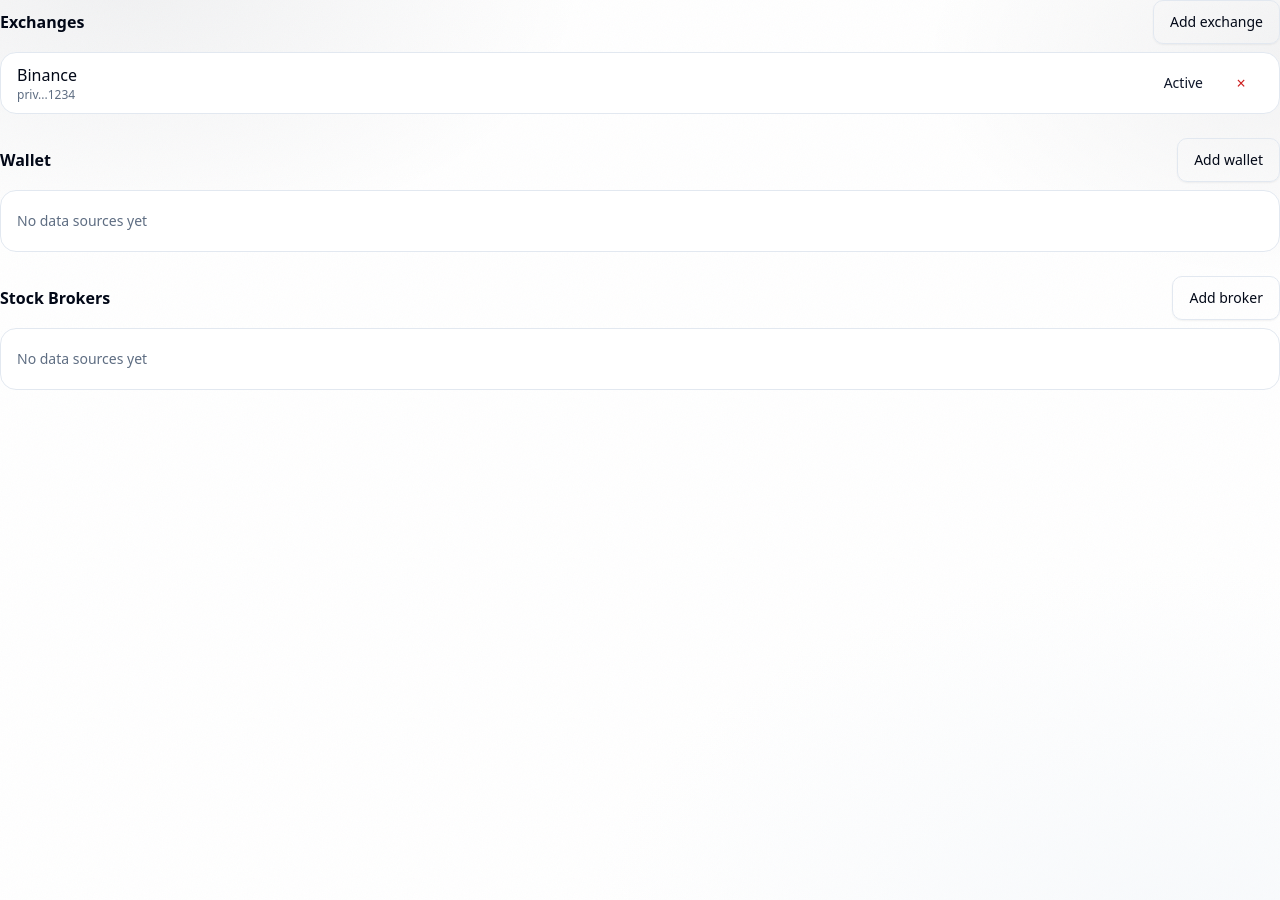
Test case: mobile data sources › masks saved credentials and validates provider fields before saving
This screenshot has width=1280, height=900.
What coordinates should you click on to do the following:
click the button "Add exchange"
I would click on:
 (1217, 22)
Its box is [1153, 0, 1279, 44].
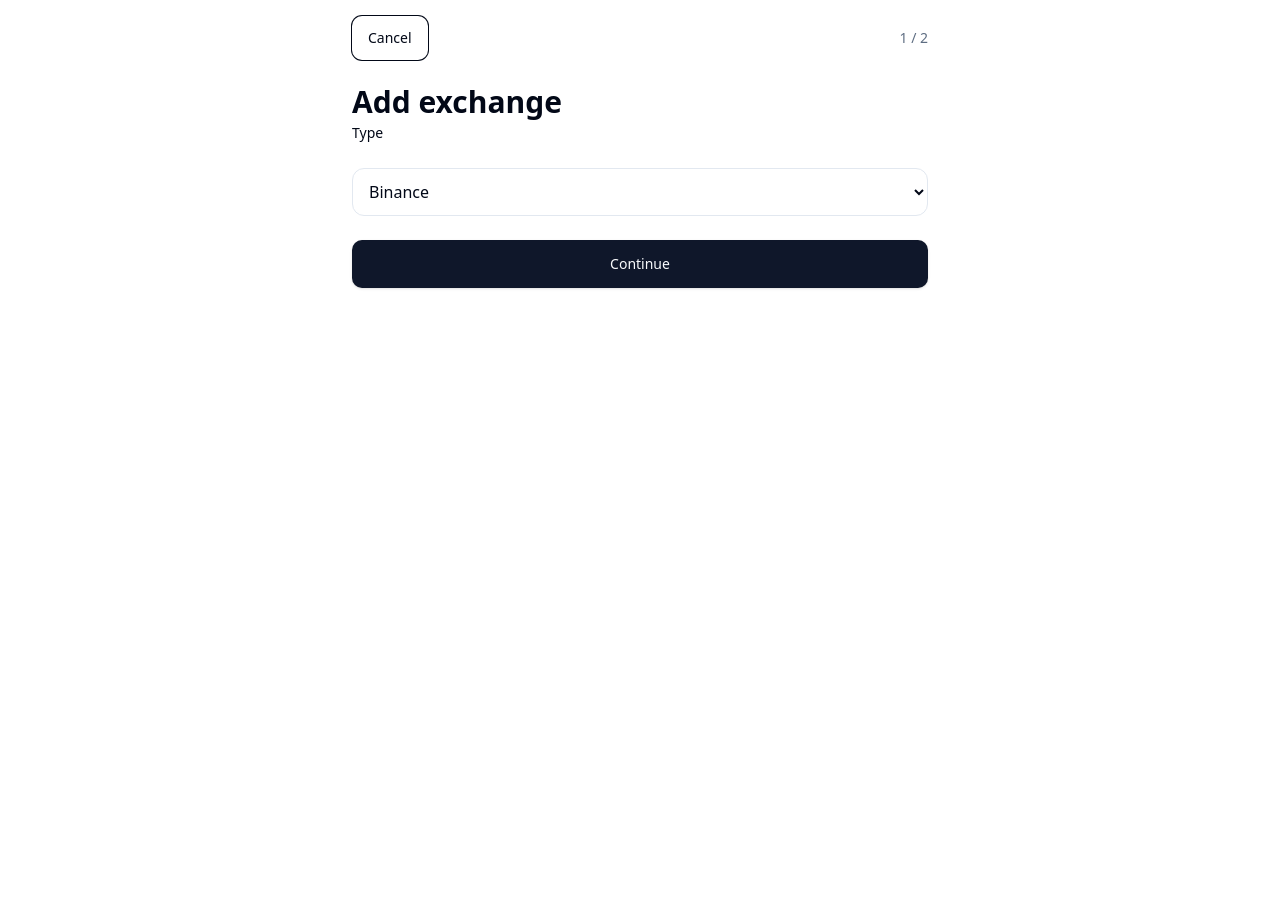
What coordinates should you click on to do the following:
click the button "Continue"
I would click on:
 (640, 264)
Its box is [352, 240, 928, 288].
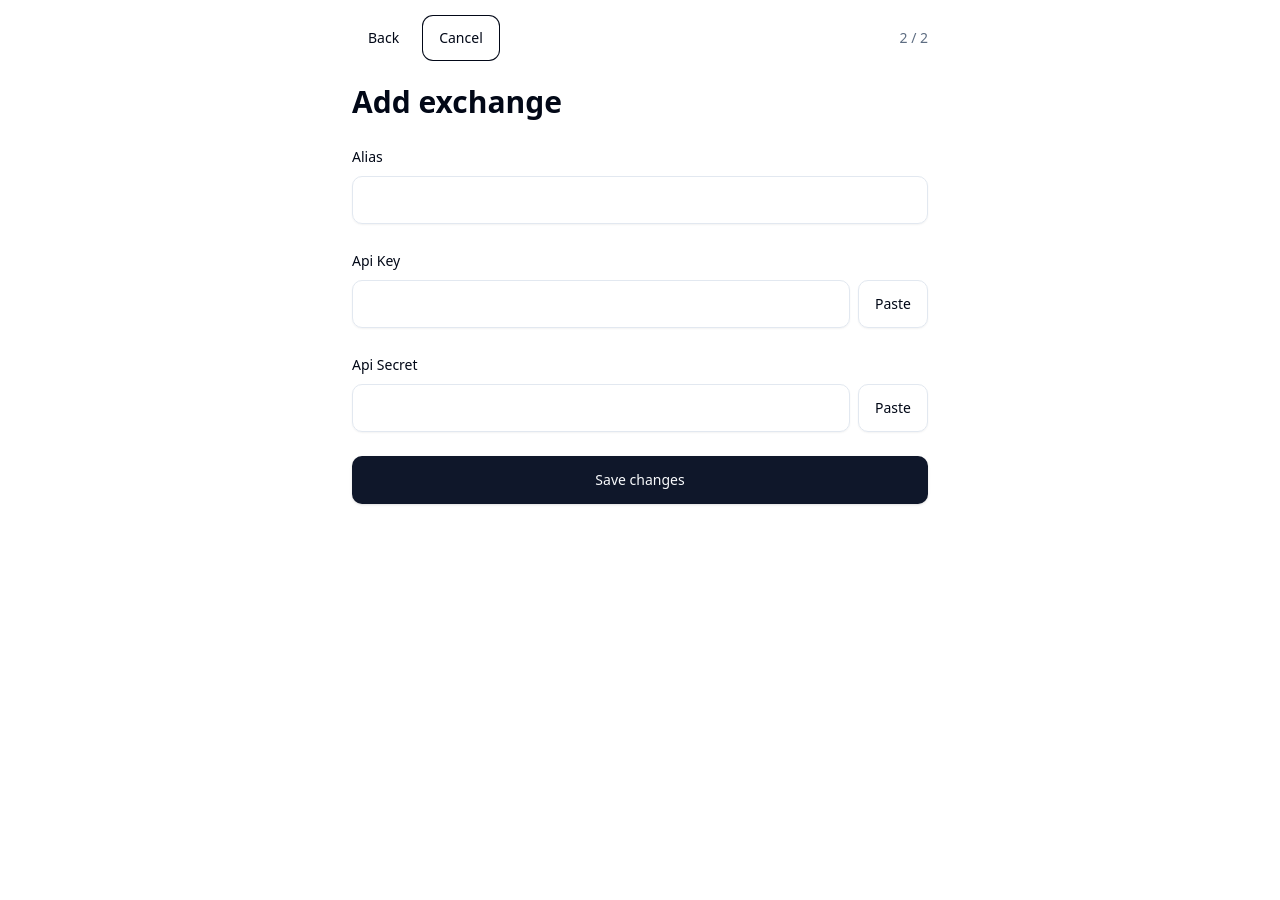
What coordinates should you click on to do the following:
click the button "Save changes"
I would click on:
 (640, 480)
Its box is [352, 456, 928, 504].
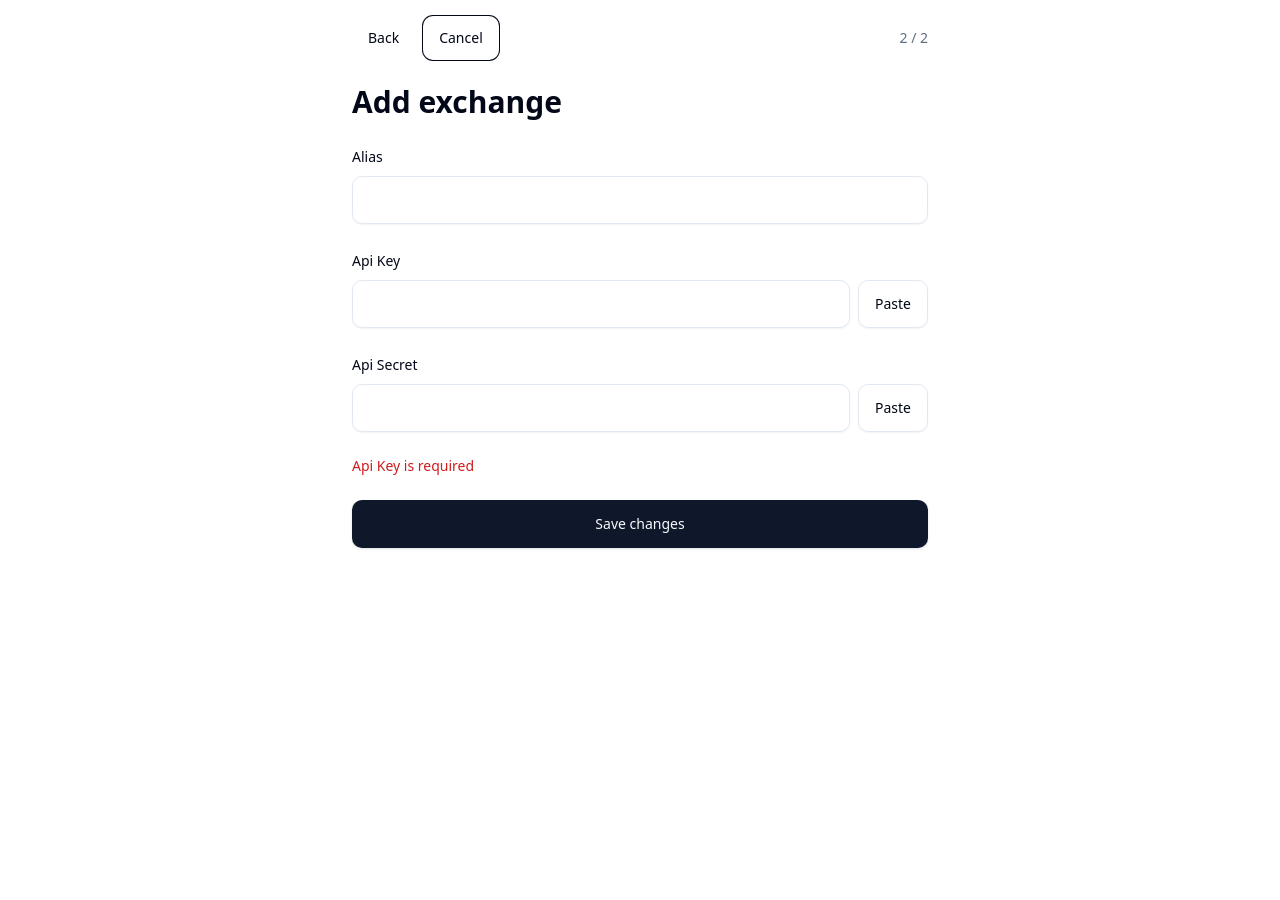
Expected: the message shows "Api Key", [352, 456, 474, 475]
